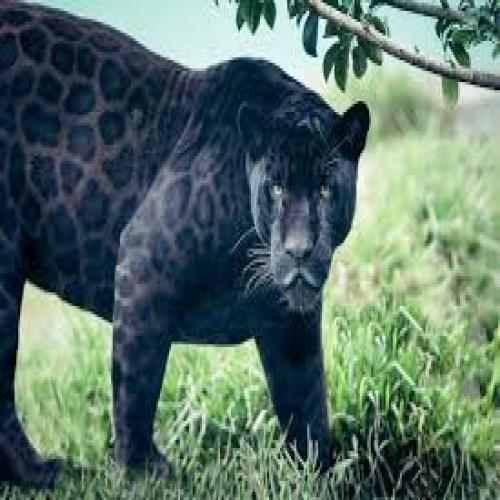panther-endangered: (1, 1, 368, 476)
